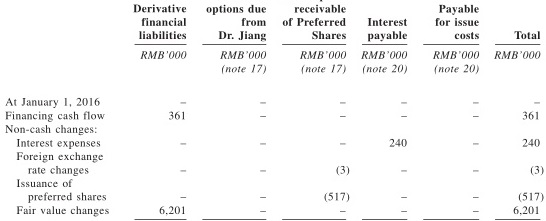column: (5, 1, 108, 221), (282, 1, 350, 221), (206, 1, 267, 221), (133, 1, 187, 221), (495, 1, 545, 221), (362, 1, 409, 221), (432, 1, 479, 220)
row: (1, 3, 546, 15), (1, 17, 546, 28), (1, 31, 546, 42), (1, 111, 546, 122), (1, 152, 546, 163), (3, 63, 546, 74), (1, 50, 546, 60), (1, 97, 546, 107), (1, 139, 546, 149), (1, 166, 546, 176), (1, 192, 546, 202), (1, 206, 546, 216), (2, 179, 546, 189), (1, 125, 546, 134)
